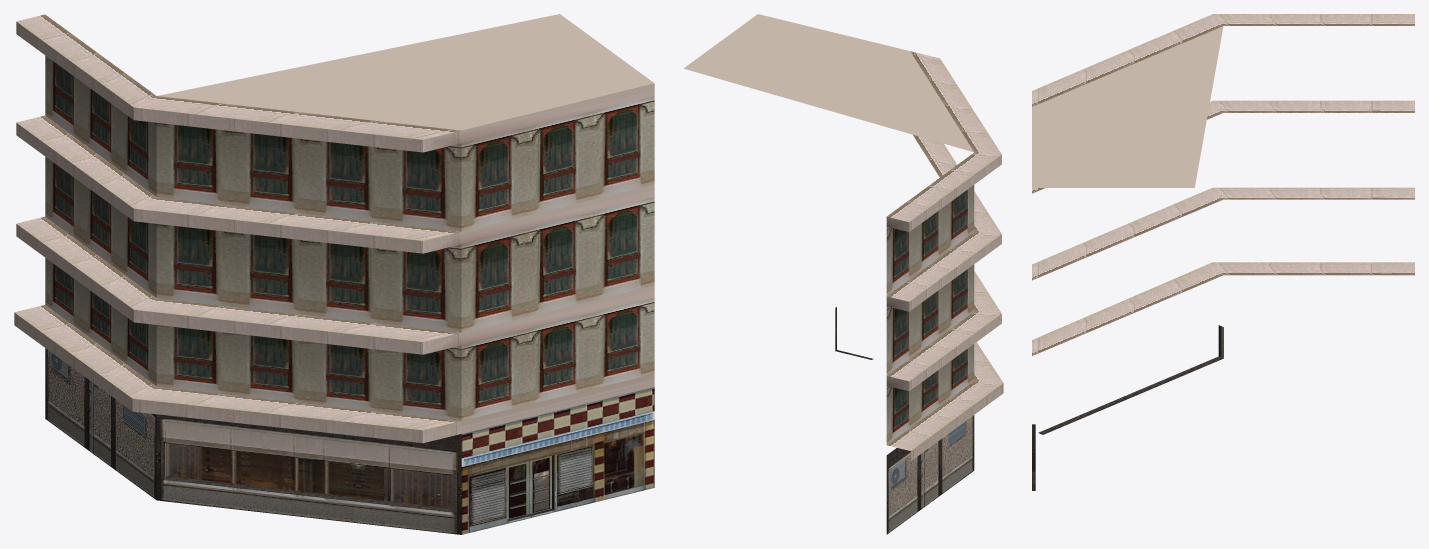
Rendered from M2Zone4_Building22.glb.
3 views of the same model, side by side, from view 1: azimuth 30°, elevation 25°; view 2: azimuth 150°, elevation 25°; view 3: azimuth 270°, elevation 25° (orthographic). The views are drawn at different scales.
Parts seen in each view (by area): view 1: M2ZONE4_BUILDING22; view 2: M2ZONE4_BUILDING22; view 3: M2ZONE4_BUILDING22.
Part boxes in pixels (x1=…): M2ZONE4_BUILDING22: x1=14, y1=14, x2=654, y2=534; M2ZONE4_BUILDING22: x1=684, y1=14, x2=1003, y2=534; M2ZONE4_BUILDING22: x1=1032, y1=14, x2=1414, y2=490.
Bounding box in the file's own units: 17.28 × 16 × 16.
5 materials, 5 textured.
